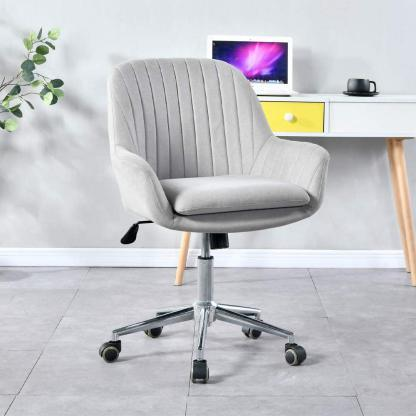chair: (92, 50, 334, 387)
table: (263, 77, 416, 287)
